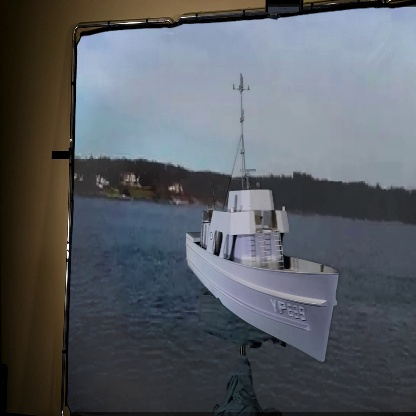YP689: (185, 73, 339, 363)
